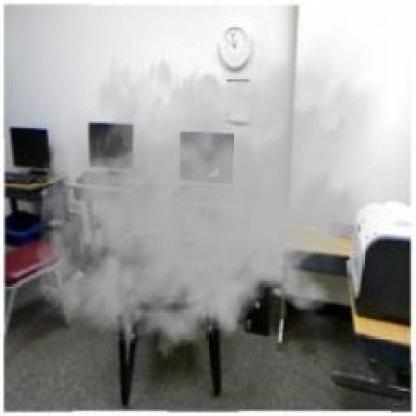Smoke: (33, 17, 392, 370)
